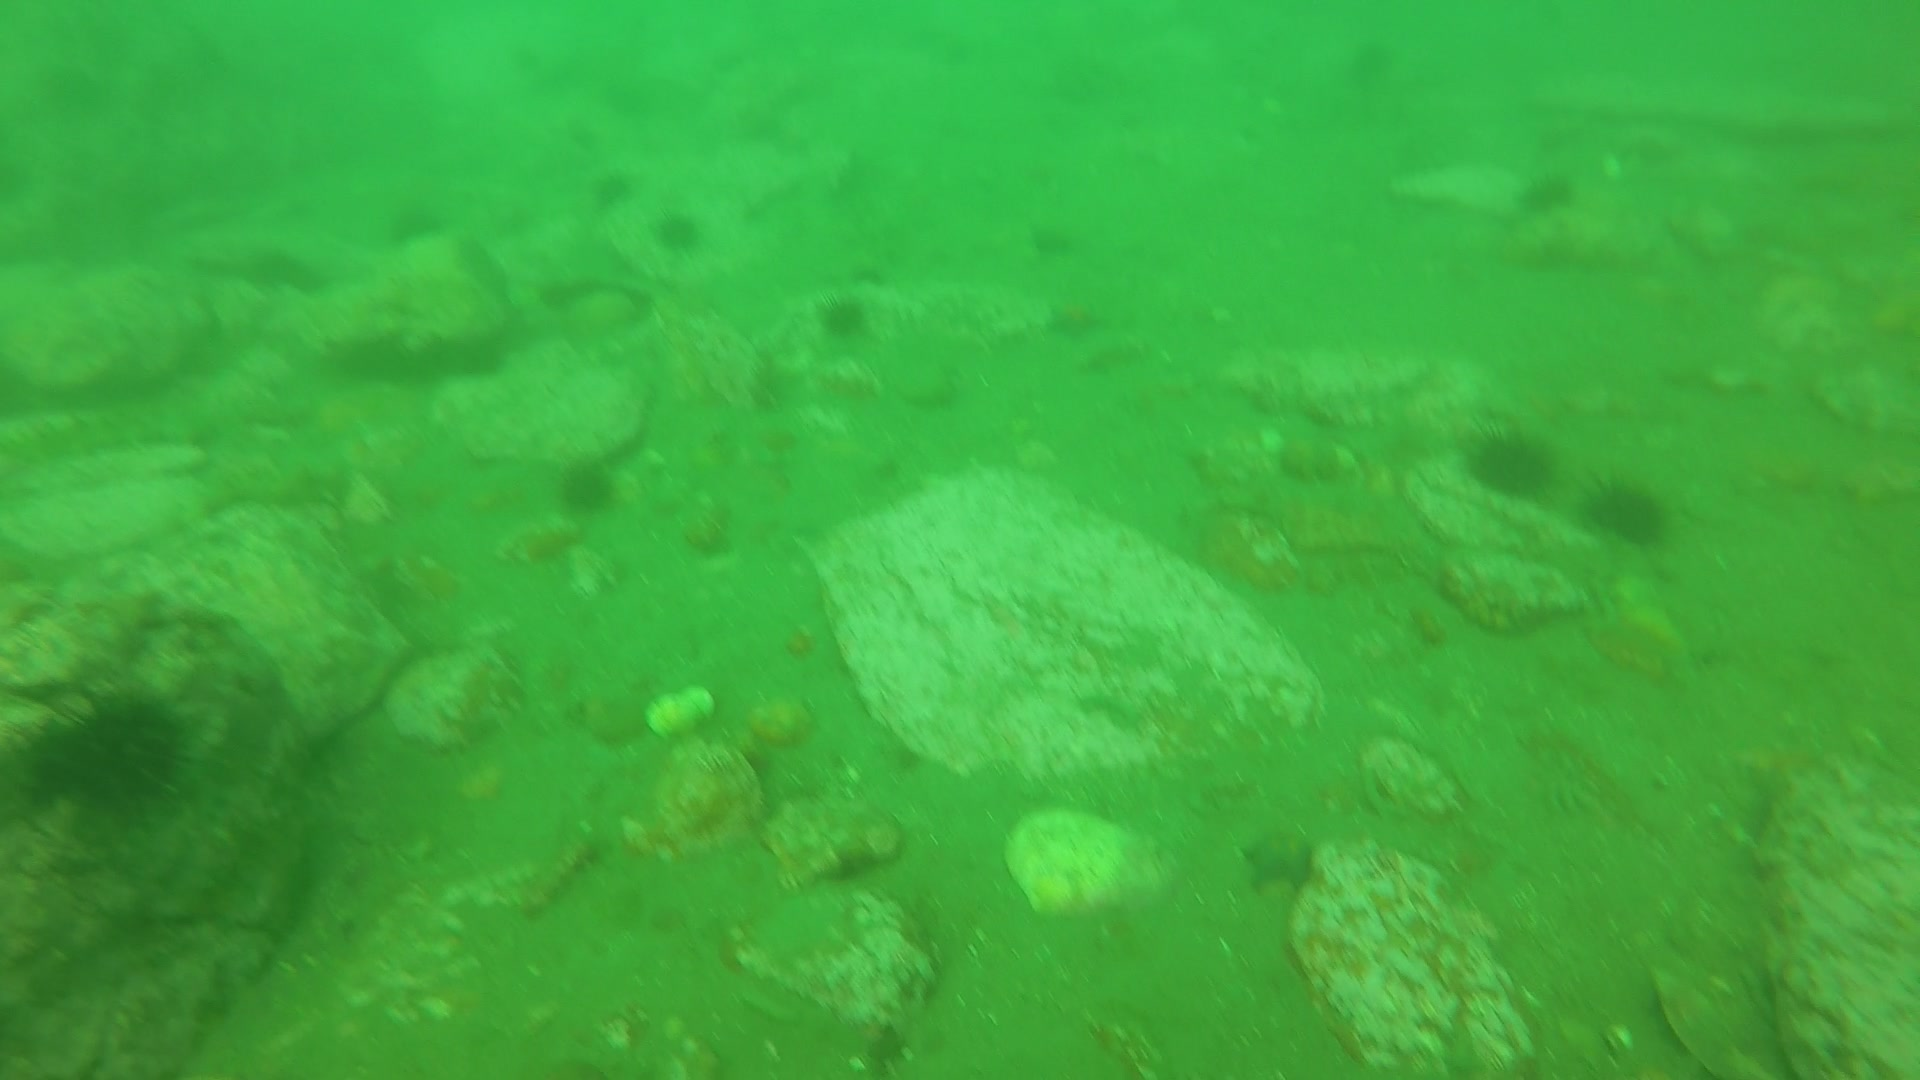echinus: (15, 676, 178, 839), (1584, 477, 1675, 560), (1462, 427, 1563, 502), (650, 208, 712, 264), (553, 458, 609, 516), (808, 297, 868, 345), (1518, 175, 1577, 224), (585, 169, 638, 216), (1029, 225, 1077, 264)
scallop: (1004, 807, 1185, 922), (382, 647, 524, 758), (649, 740, 764, 856)
starfish: (1044, 297, 1117, 339)
